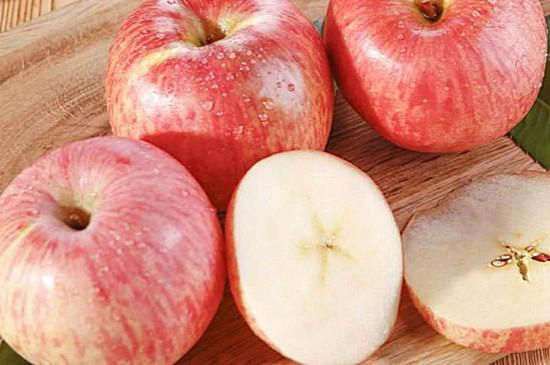apple: (1, 137, 225, 365), (102, 1, 333, 200), (226, 150, 404, 365), (322, 1, 546, 158), (400, 168, 550, 356)
